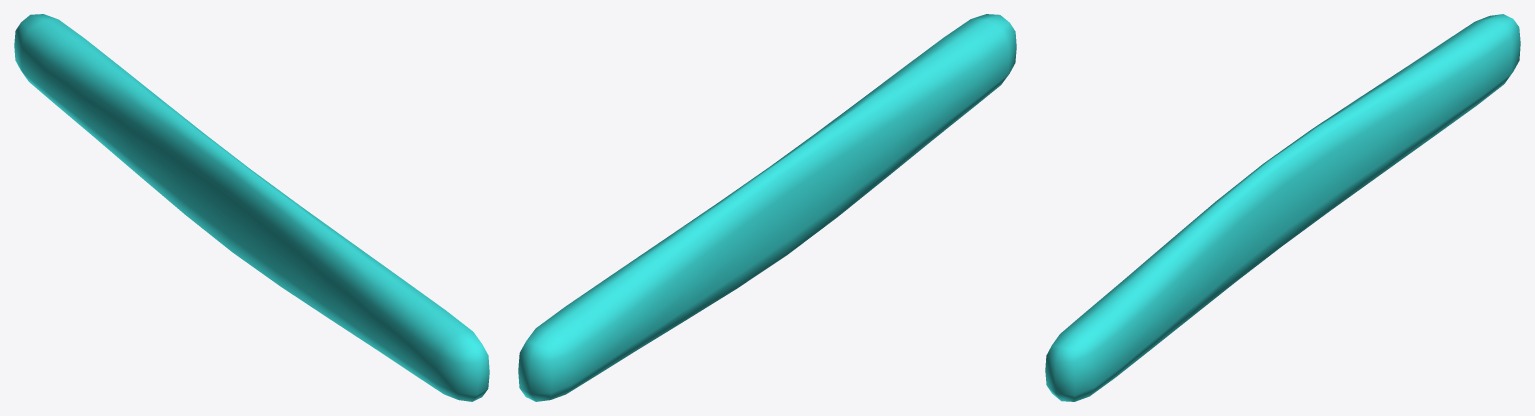
Rendered from FishingRodReel 2024_10_23.fbx.
The picture shows the model from 3 angles, left to right: view 1: azimuth 30°, elevation 25°; view 2: azimuth 150°, elevation 25°; view 3: azimuth 330°, elevation 25°; orthographic projection. The views are drawn at different scales.
Parts seen in each view (by area): view 1: ReelHandle; view 2: ReelHandle; view 3: ReelHandle.
Part boxes in pixels (left/top/right/bottom): ReelHandle: left=14, top=14, right=489, bottom=401; ReelHandle: left=518, top=14, right=1016, bottom=401; ReelHandle: left=1045, top=14, right=1520, bottom=401.
Bounding box in the file's own units: 2.93 × 5.69 × 51.16.
